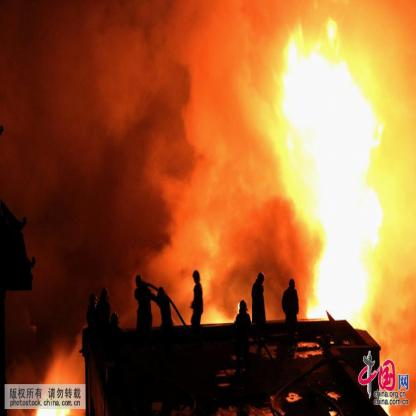fire: (262, 26, 408, 326)
smoke: (1, 3, 178, 321)
